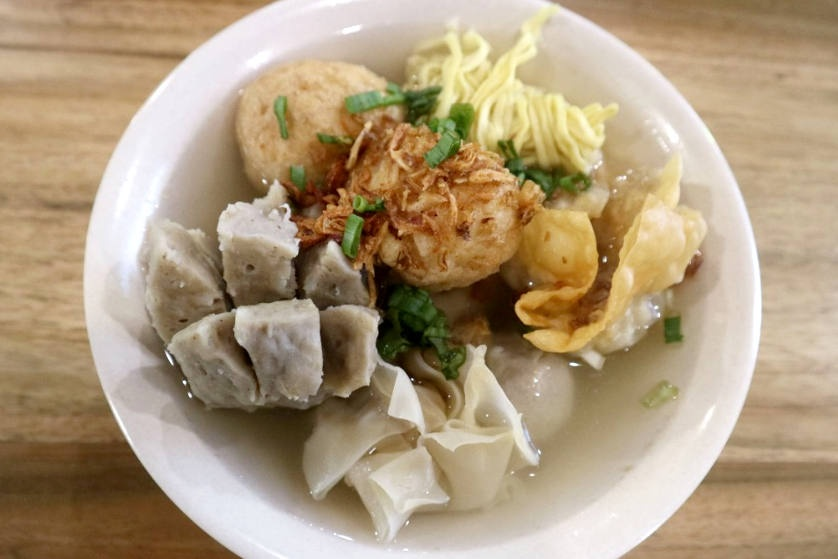bakso_malang: (141, 30, 708, 538)
